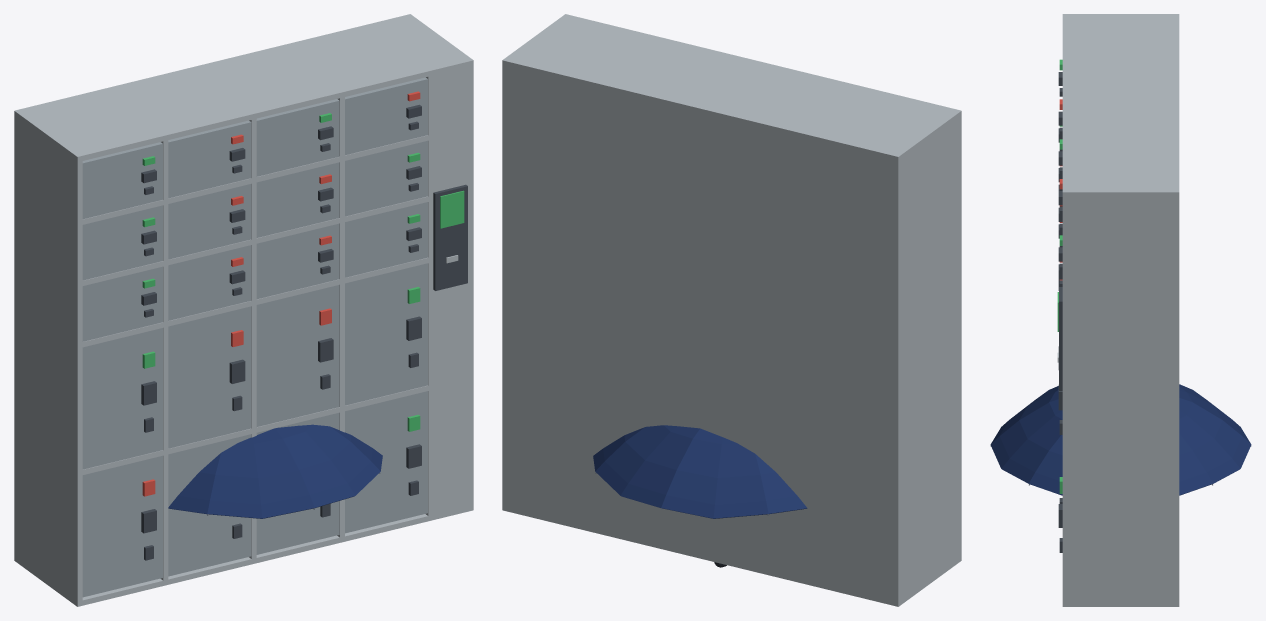
Rendered from items.glb.
3 views of the same model, side by side, from view 1: azimuth 30°, elevation 25°; view 2: azimuth 150°, elevation 25°; view 3: azimuth 270°, elevation 25° (orthographic). The views are drawn at different scales.
Visible parts, largest first — view 1: FURN_Locker__Body, ITM09_UmbrellaOpen, FURN_Locker__Door05, FURN_Locker__Door06, FURN_Locker__Door07, FURN_Locker__Door04, FURN_Locker__Door00, FURN_Locker__Door03, FURN_Locker__Door01, FURN_Locker__Door17, FURN_Locker__Door18, FURN_Locker__Door19 (+10 smaller); view 2: FURN_Locker__Body, ITM09_UmbrellaOpen; view 3: FURN_Locker__Body, ITM09_UmbrellaOpen.
Boxes of the visible parts, x1,y1,x2,y2 form: FURN_Locker__Body: [14, 14, 473, 606]; ITM09_UmbrellaOpen: [168, 424, 382, 518]; FURN_Locker__Door05: [168, 306, 251, 448]; FURN_Locker__Door06: [256, 285, 339, 426]; FURN_Locker__Door07: [345, 263, 427, 405]; FURN_Locker__Door04: [82, 328, 162, 469]; FURN_Locker__Door00: [82, 455, 162, 597]; FURN_Locker__Door03: [345, 391, 427, 533]; FURN_Locker__Door01: [168, 434, 251, 576]; FURN_Locker__Door17: [168, 120, 251, 198]; FURN_Locker__Door18: [256, 99, 339, 176]; FURN_Locker__Door19: [345, 77, 427, 155]; FURN_Locker__Body: [502, 14, 961, 606]; ITM09_UmbrellaOpen: [593, 425, 807, 567]; FURN_Locker__Body: [1057, 14, 1179, 606]; ITM09_UmbrellaOpen: [990, 384, 1251, 495].
Bounding box in the file's own units: 0.94 × 1.08 × 0.5819.
